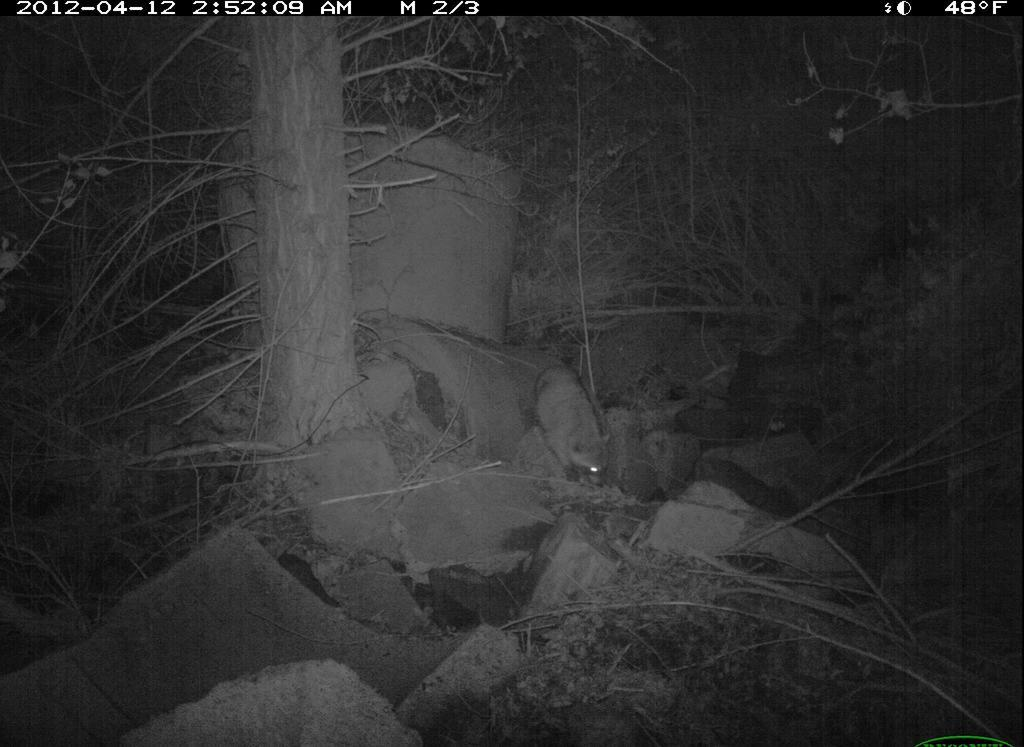raccoon: (516, 355, 641, 495)
